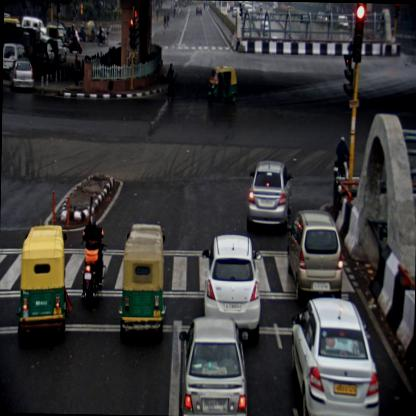car: (289, 295, 385, 415), (178, 312, 250, 416), (199, 233, 262, 338), (286, 209, 345, 304), (246, 160, 292, 230), (10, 59, 34, 92), (2, 42, 26, 75)
motorcycle: (81, 213, 105, 309), (333, 132, 350, 184)
